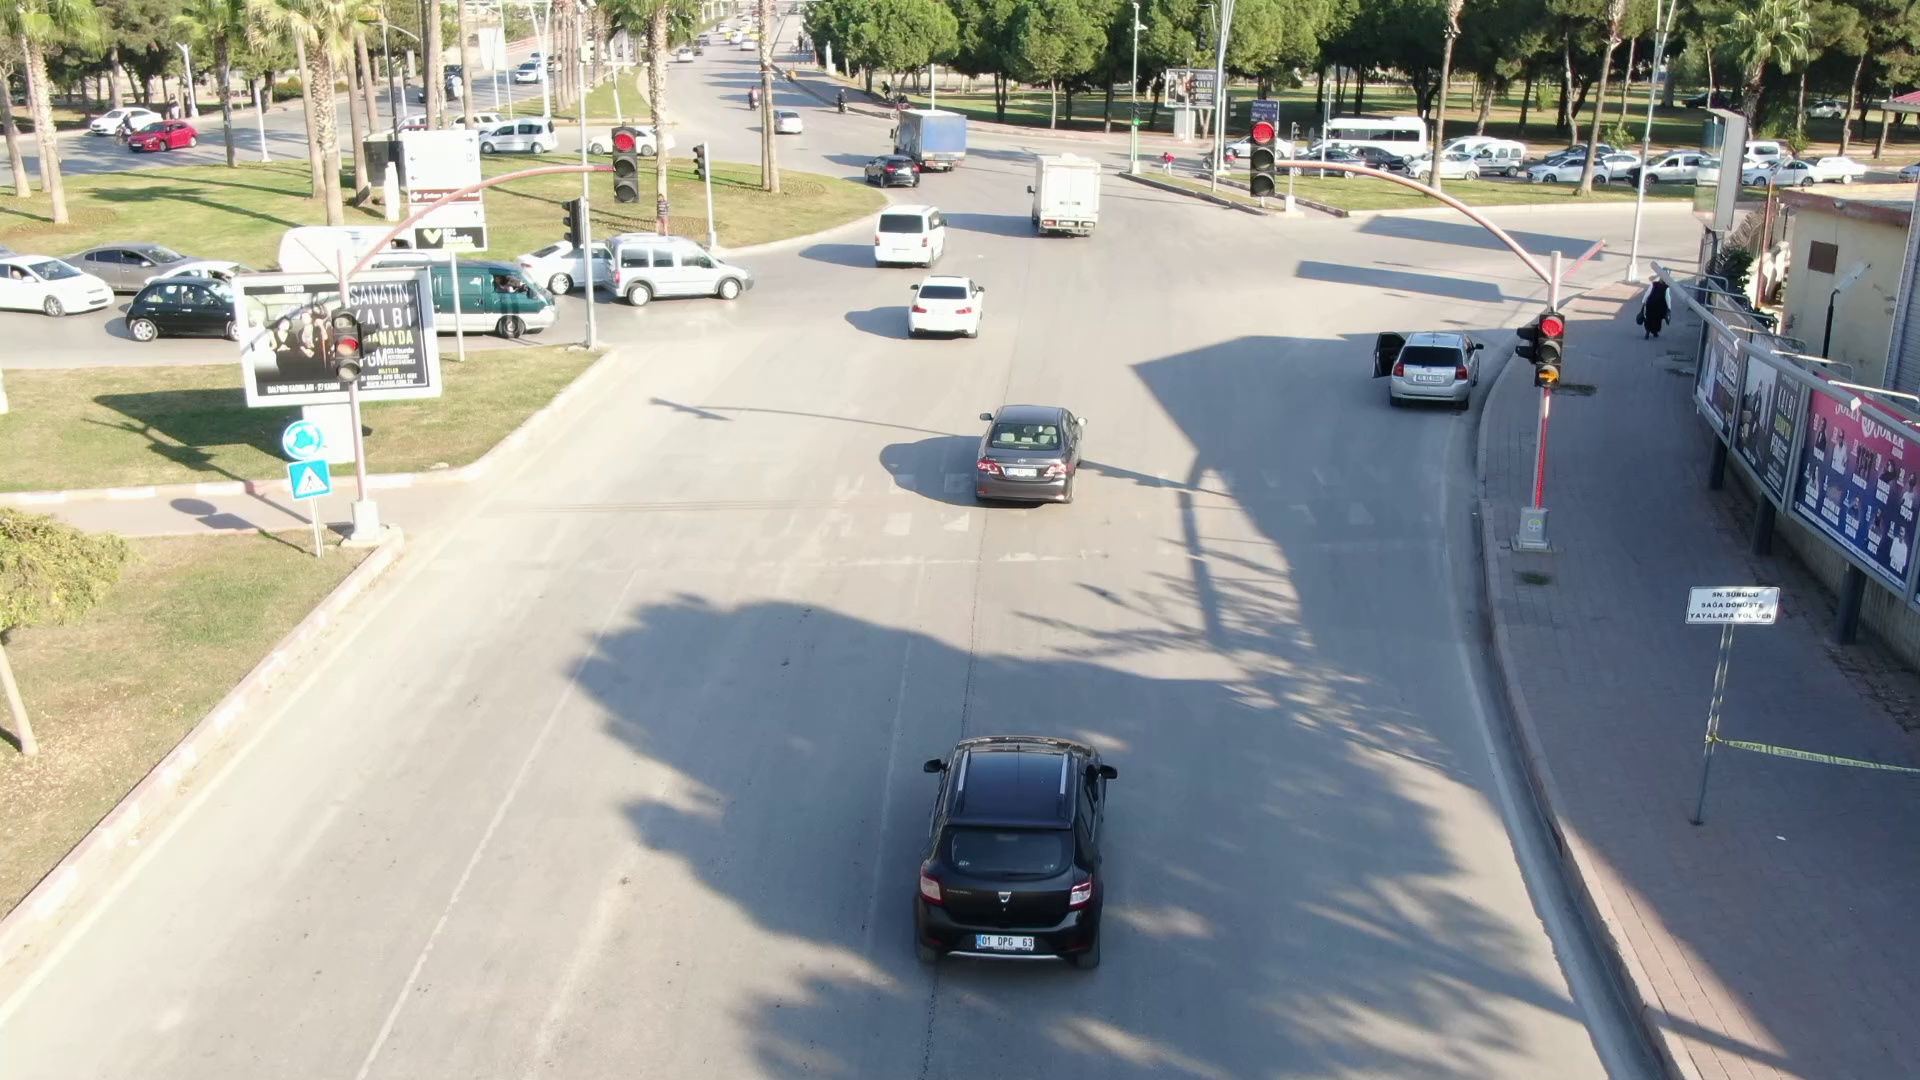car: (891, 686, 1140, 987), (965, 384, 1095, 509), (597, 224, 765, 311), (1369, 320, 1490, 415), (1018, 150, 1111, 245), (902, 269, 990, 343), (867, 200, 953, 271)
person: (1630, 271, 1679, 341)
